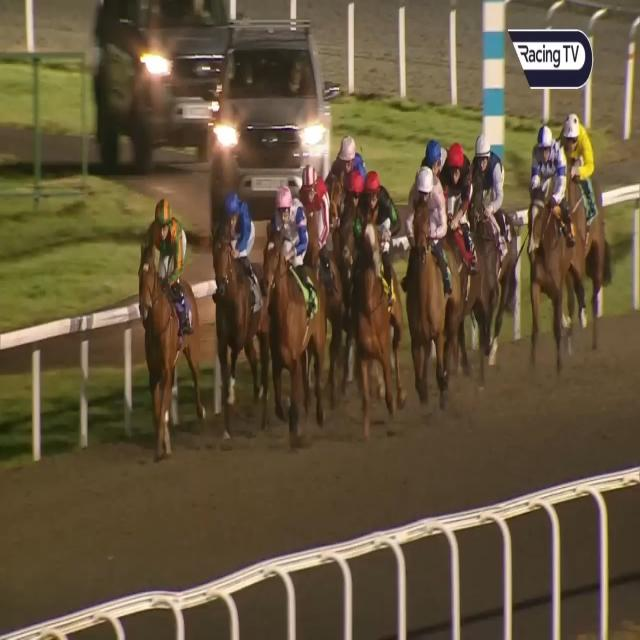horses-racing: (135, 196, 202, 434), (264, 180, 318, 428), (466, 130, 520, 339), (211, 188, 262, 391), (531, 123, 579, 335), (291, 170, 345, 357), (557, 110, 604, 309), (409, 165, 450, 393), (443, 141, 473, 250), (362, 168, 400, 244), (344, 170, 368, 277), (328, 130, 366, 178), (415, 131, 448, 173)
